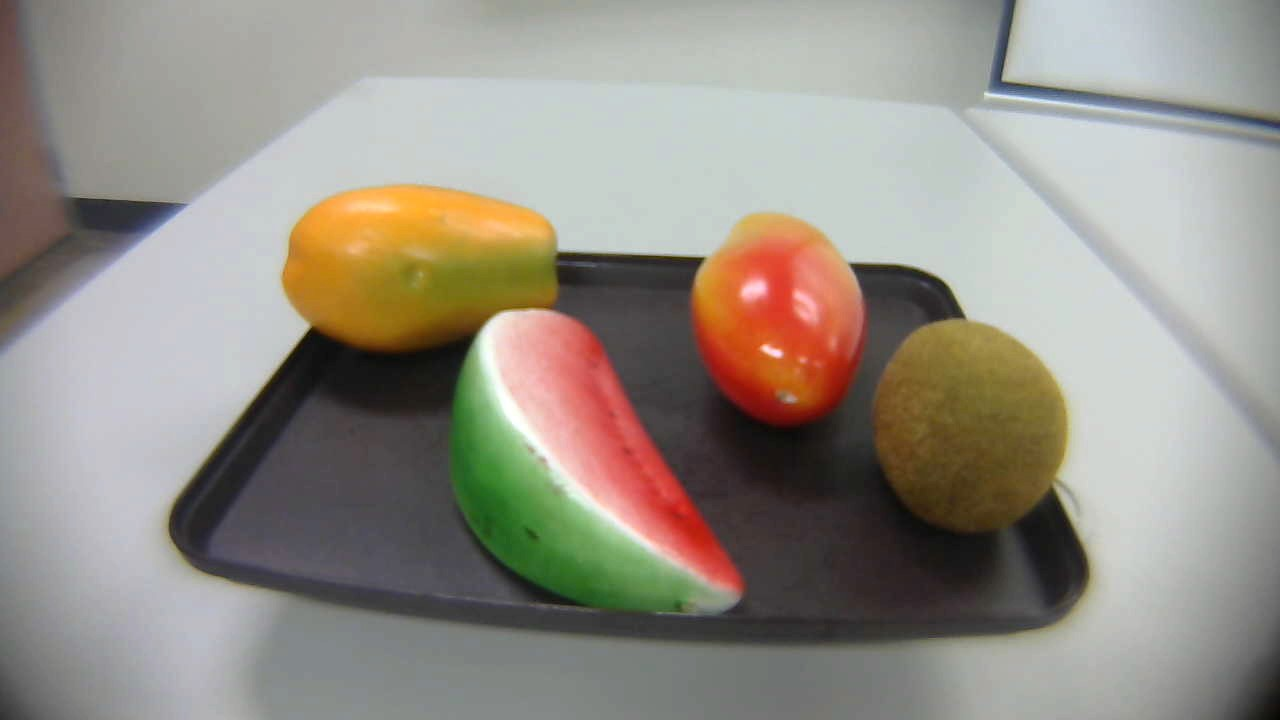kiwi fruit: (870, 316, 1073, 547)
papya: (283, 185, 565, 343)
red mango: (689, 208, 864, 434)
water melon: (446, 298, 746, 630)
